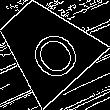O_NW: (13, 13, 80, 80)
